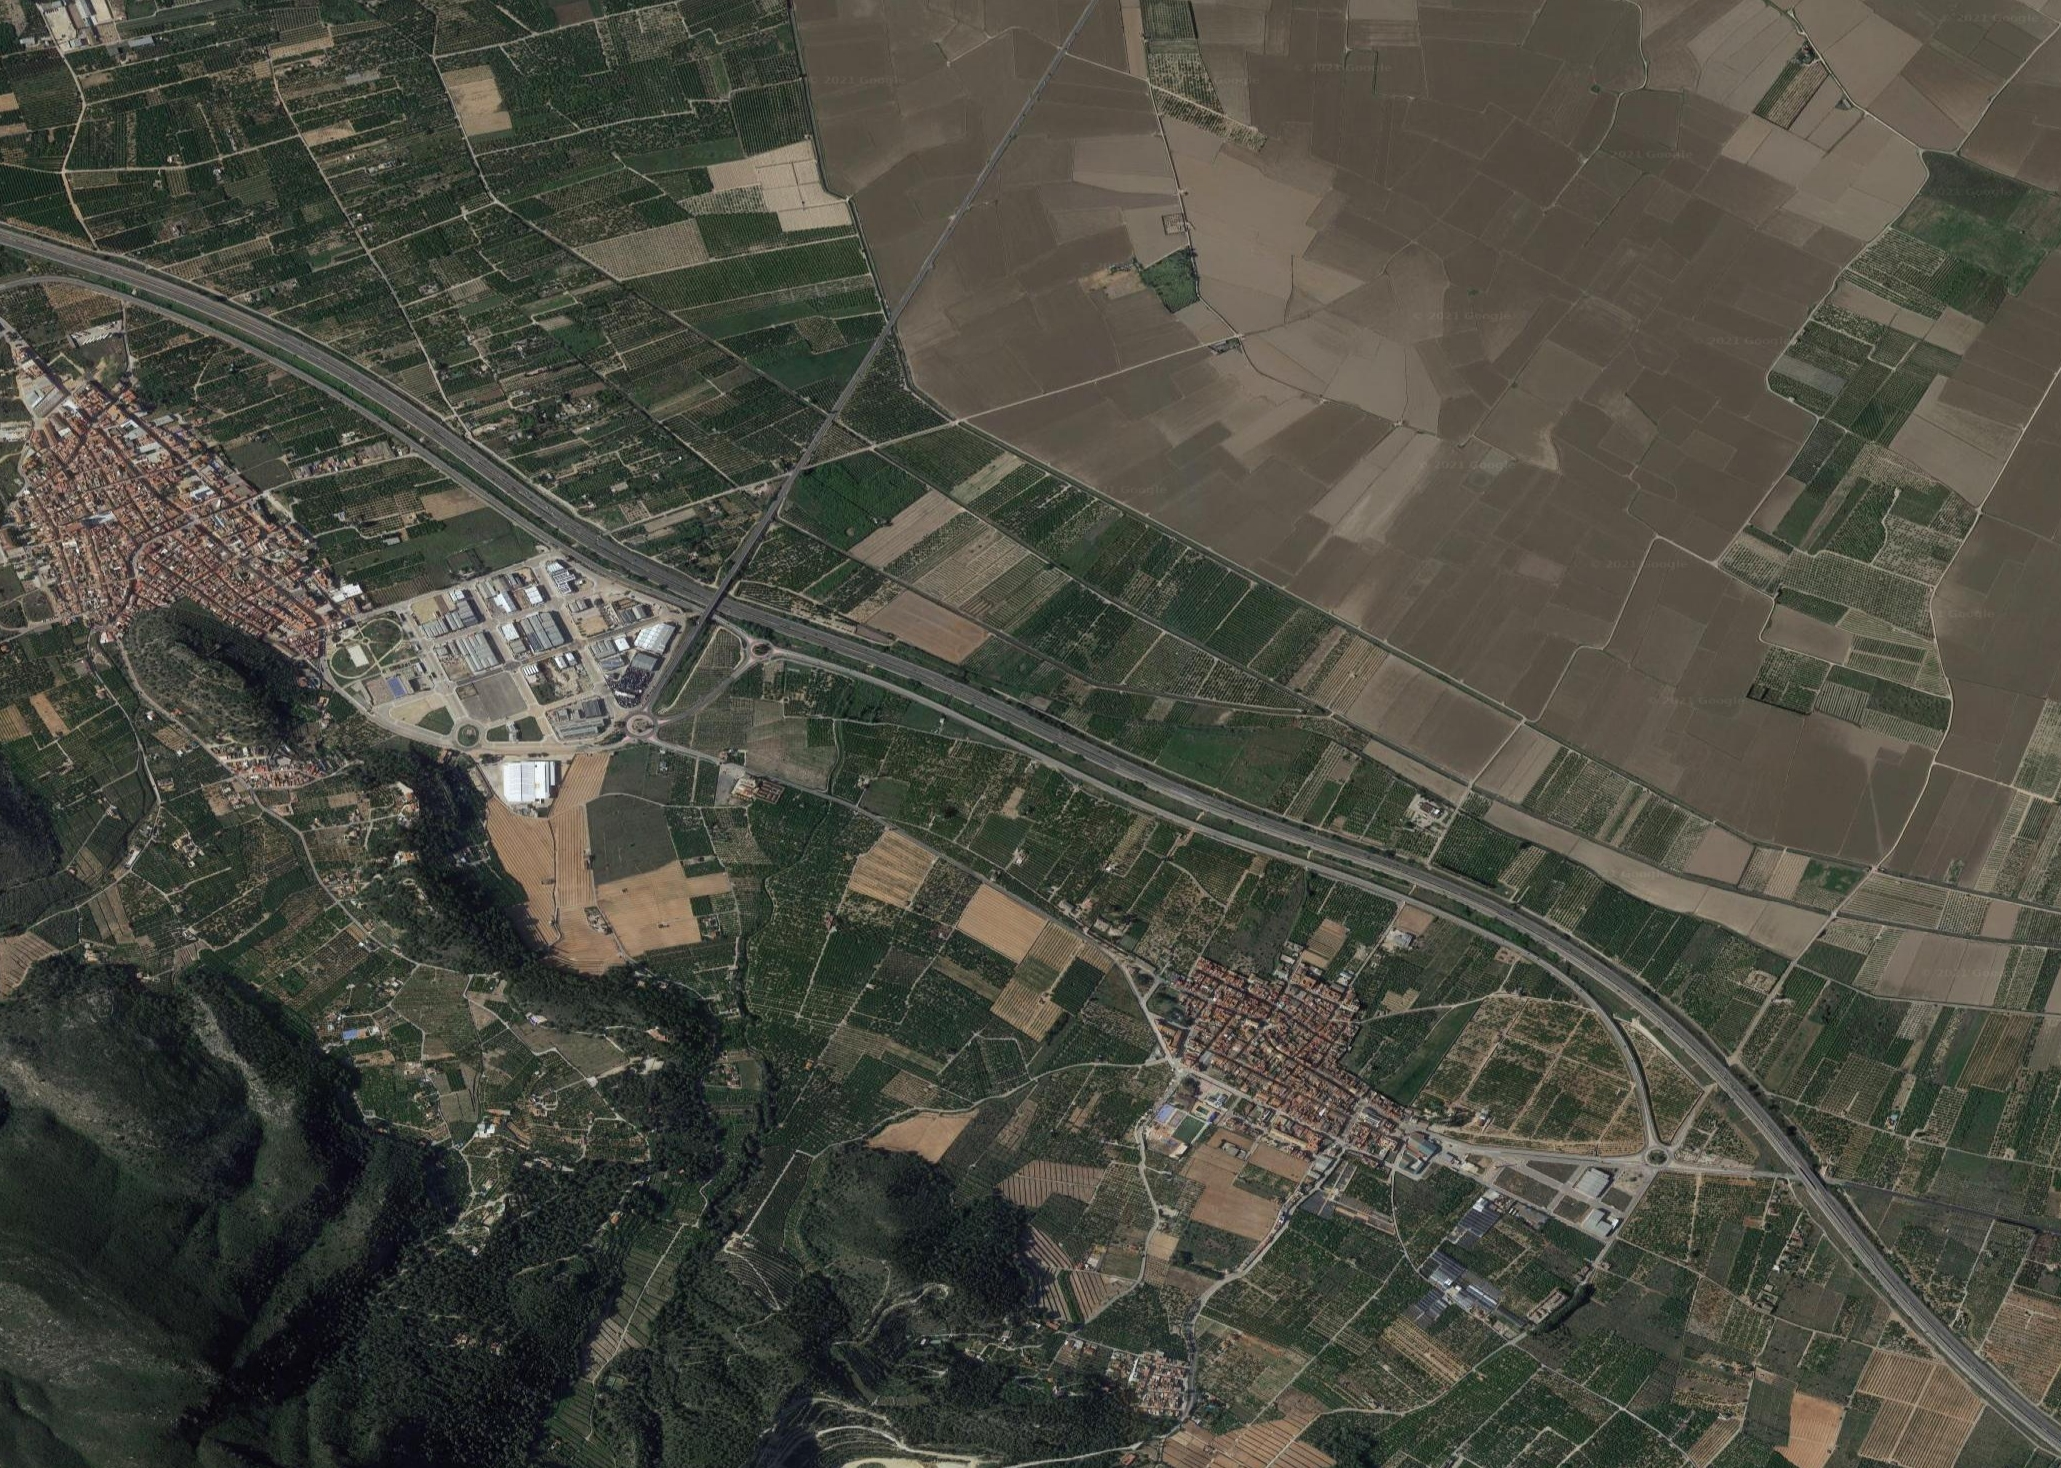bridge: (701, 574, 734, 615)
industrial: (383, 566, 677, 809)
motorway: (679, 577, 961, 705), (960, 693, 1244, 820), (1243, 813, 1527, 941), (1885, 1260, 2056, 1462), (1707, 1053, 1875, 1258), (454, 438, 674, 596), (1530, 921, 1707, 1091), (230, 316, 448, 438), (2, 218, 240, 323)
